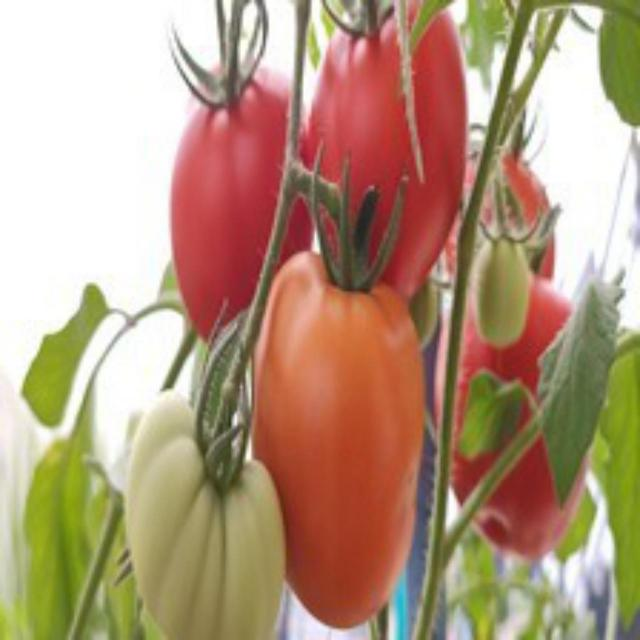tomato: (260, 240, 437, 635)
